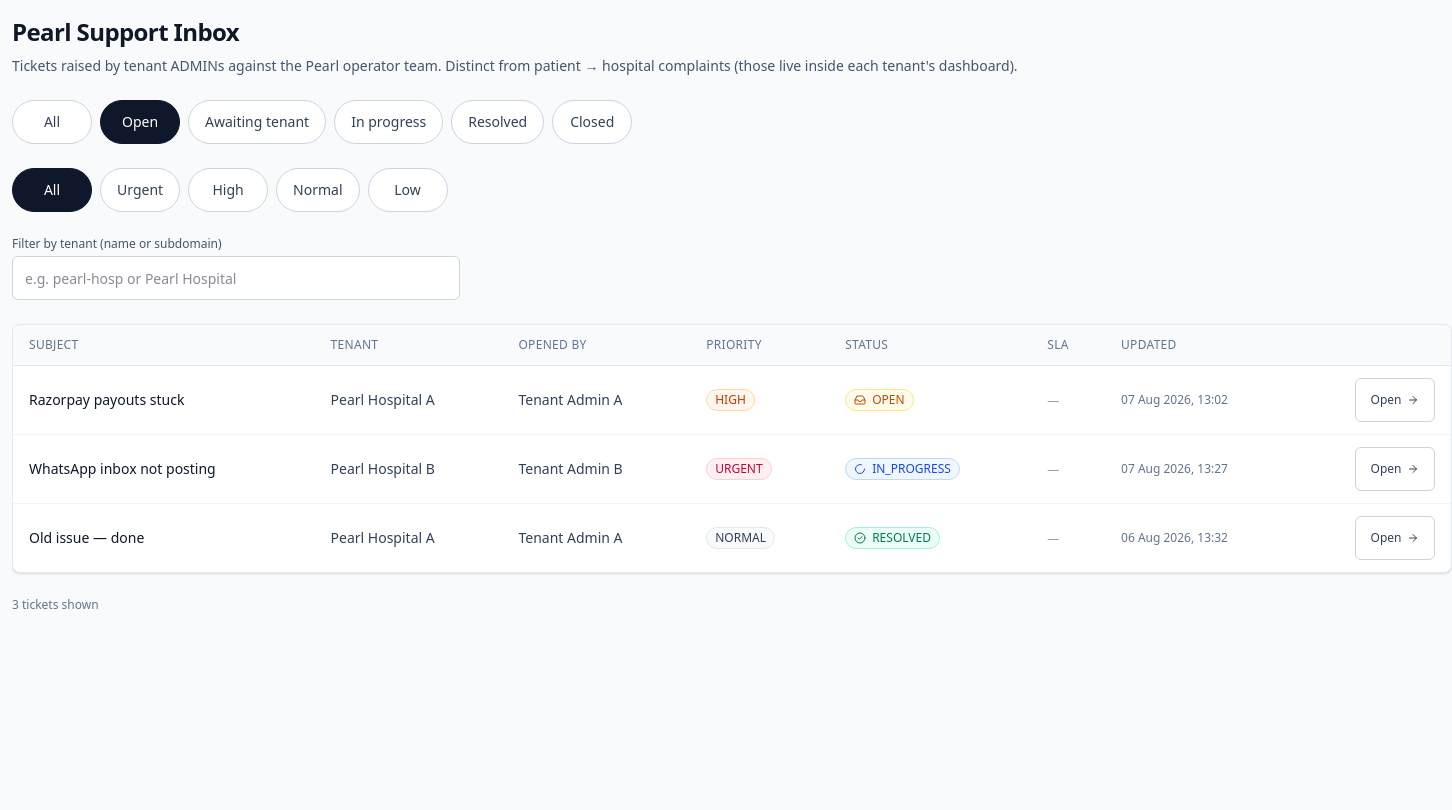
Test: Super-admin /super-admin/support page — Pearl §8.5 › tenant text filter narrows the rendered rows without firing fetch
Expected: the row with test id "support-row-tkt-progress-b" is shown, [13,434,1451,504]
Type "pearl-b" into the field with test id "support-tenant-filter" at (236, 278), box [12,256,460,300]
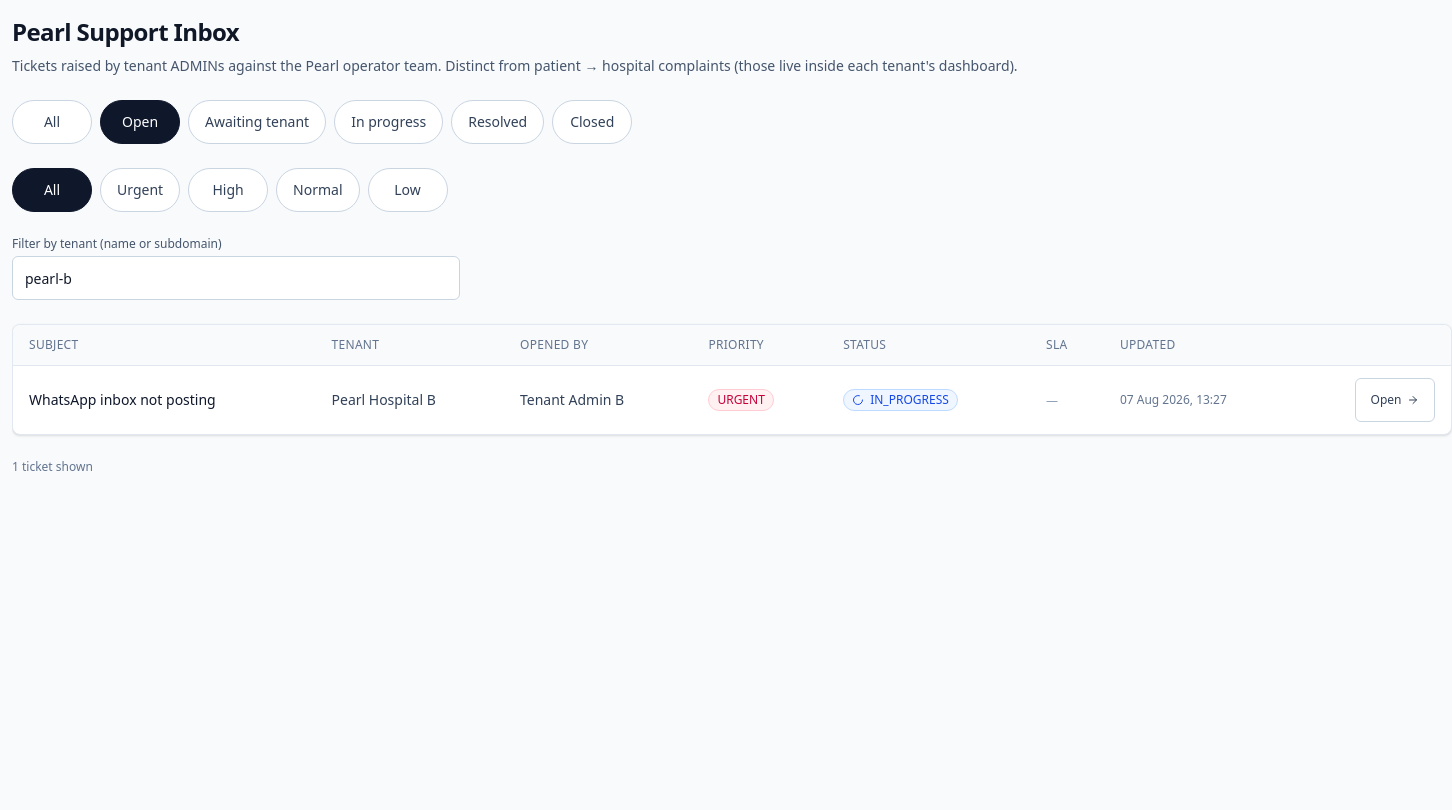
Expected: the row with test id "support-row-tkt-progress-b" is shown, [13,366,1451,434]
Expected: the row with test id "support-row-tkt-open-pearl-a" is gone
